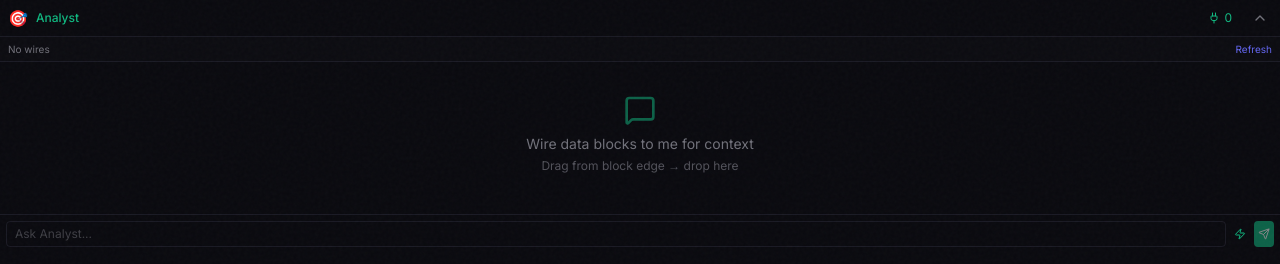
Test: PersonaBlockView — provenance › names the blocks that fed the answer
This screenshot has width=1280, height=264.
Click the button titled "Think": (1240, 234) [1230,221,1250,247]
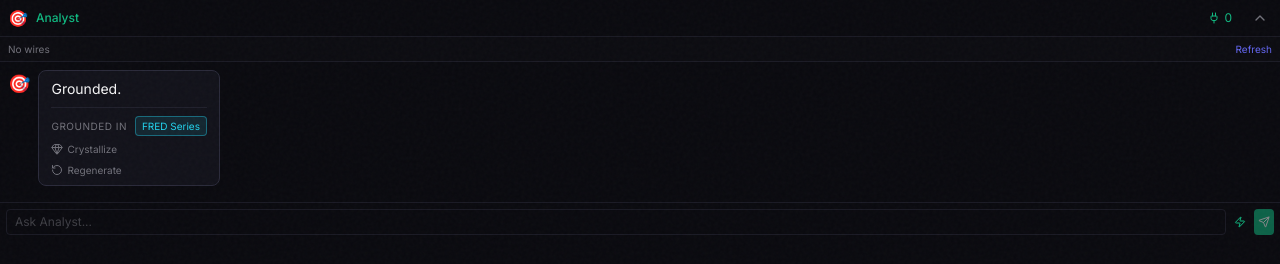
Now the button "FRED Series" is shown, box [135,116,207,136]
Now the text "Grounded in" is shown, box [52,119,127,133]
